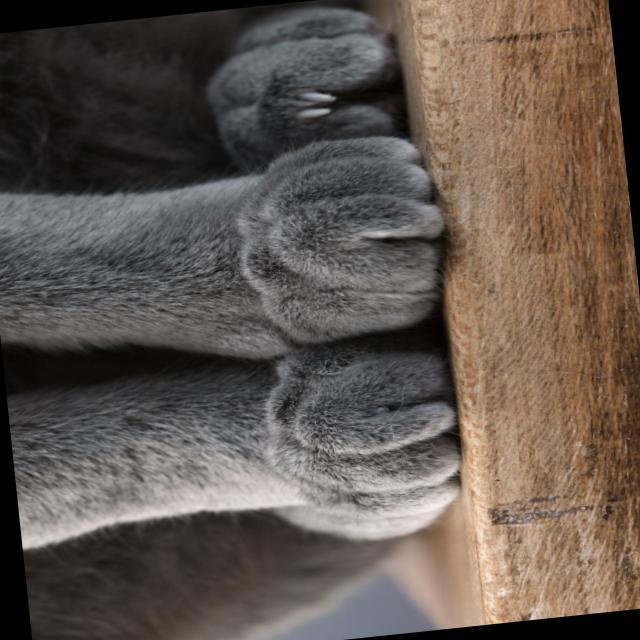Healthy skin: (20, 390, 256, 525), (7, 199, 218, 308), (254, 164, 364, 317), (286, 364, 365, 518), (228, 34, 307, 132), (188, 294, 256, 336)
